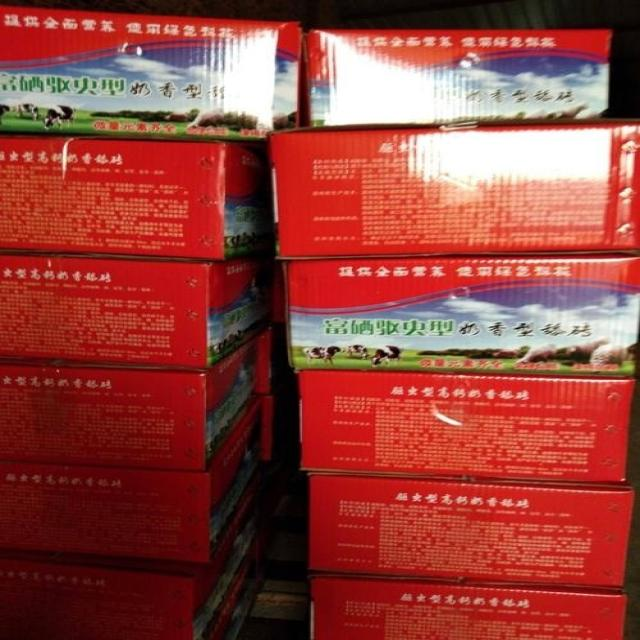box: (266, 122, 637, 254), (285, 253, 639, 380), (0, 476, 269, 639), (0, 404, 260, 562), (0, 8, 301, 137), (294, 371, 638, 482), (306, 473, 633, 587), (1, 328, 263, 470), (0, 134, 272, 261), (3, 245, 268, 368), (307, 30, 610, 127), (308, 573, 626, 639)
